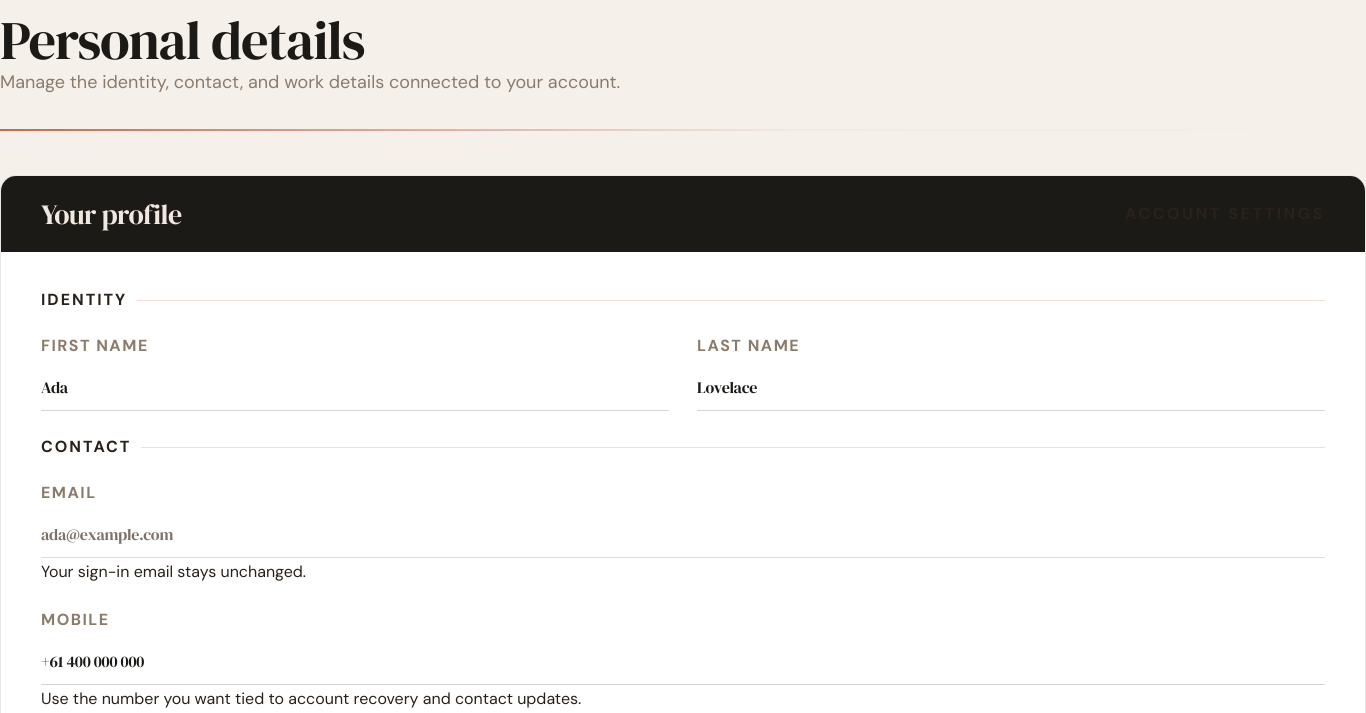
it: ProfileScreen › saves the profile without the verification modal
Replace the text in the field labelled "Mobile" with "0401 234 567": (683, 663) [41, 641, 1325, 685]
(page scrolled)
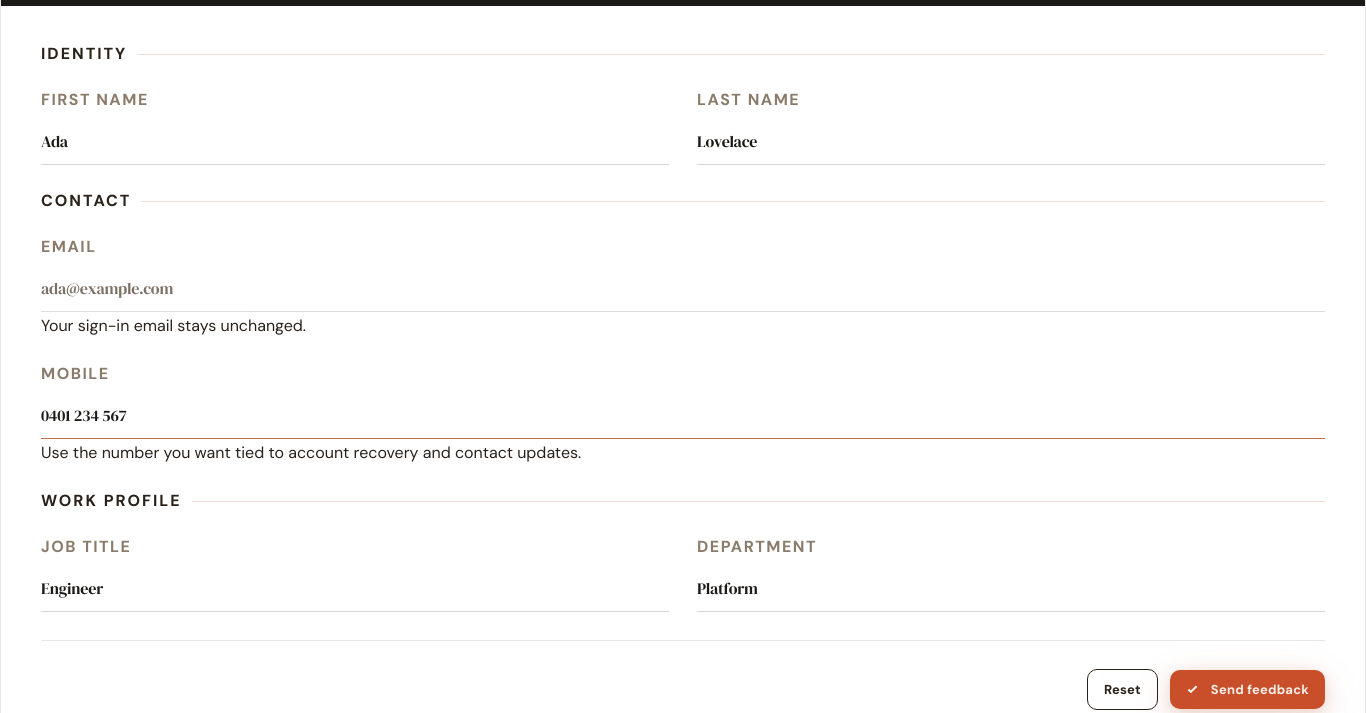
Click the button "Send feedback": click(1247, 690) [1170, 670, 1325, 709]
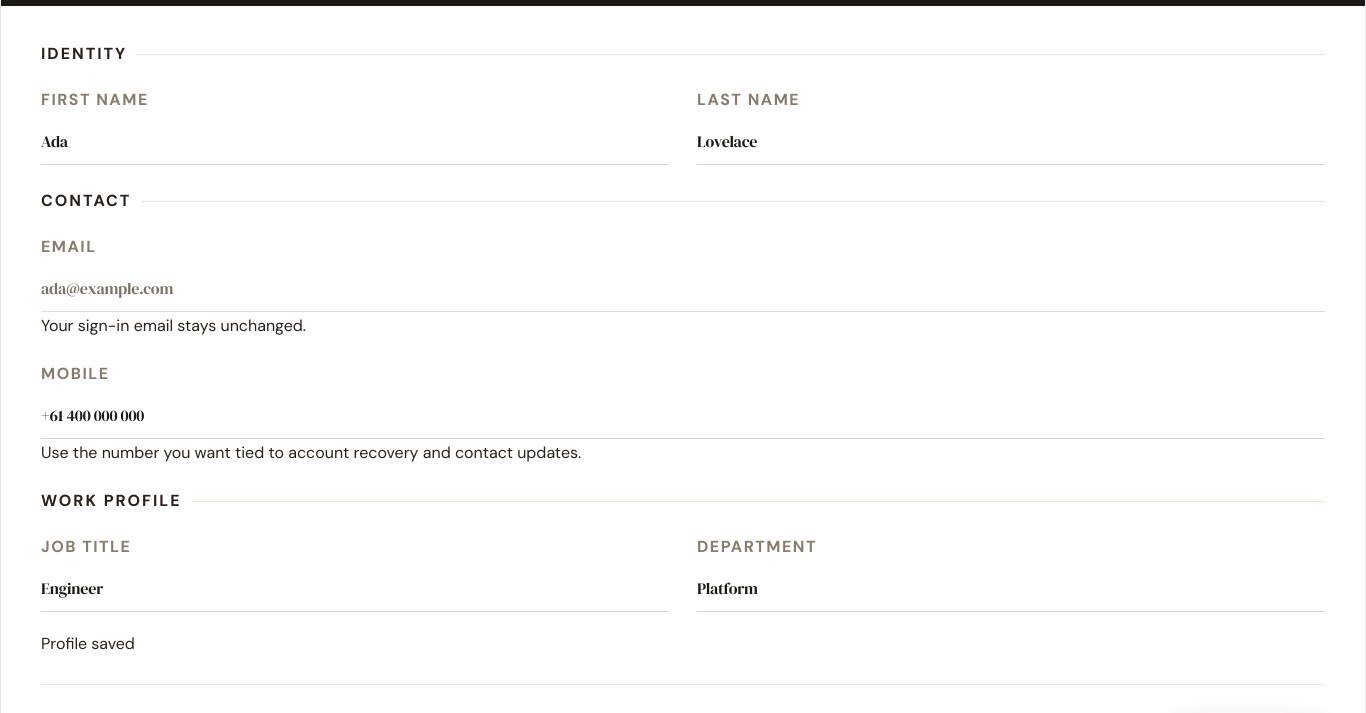
Expected: the message reads "Profile saved", [41, 633, 135, 654]
